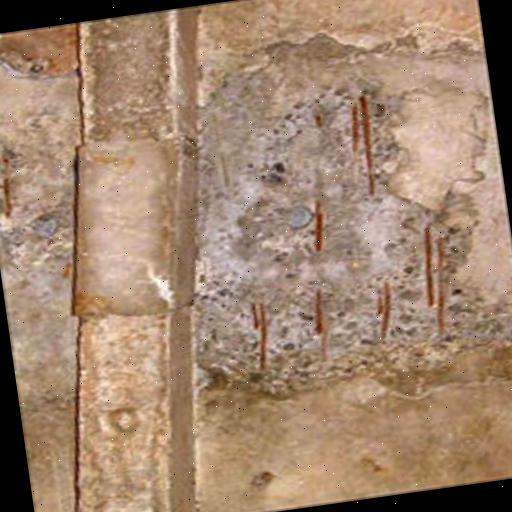spalling: (198, 32, 510, 400)
